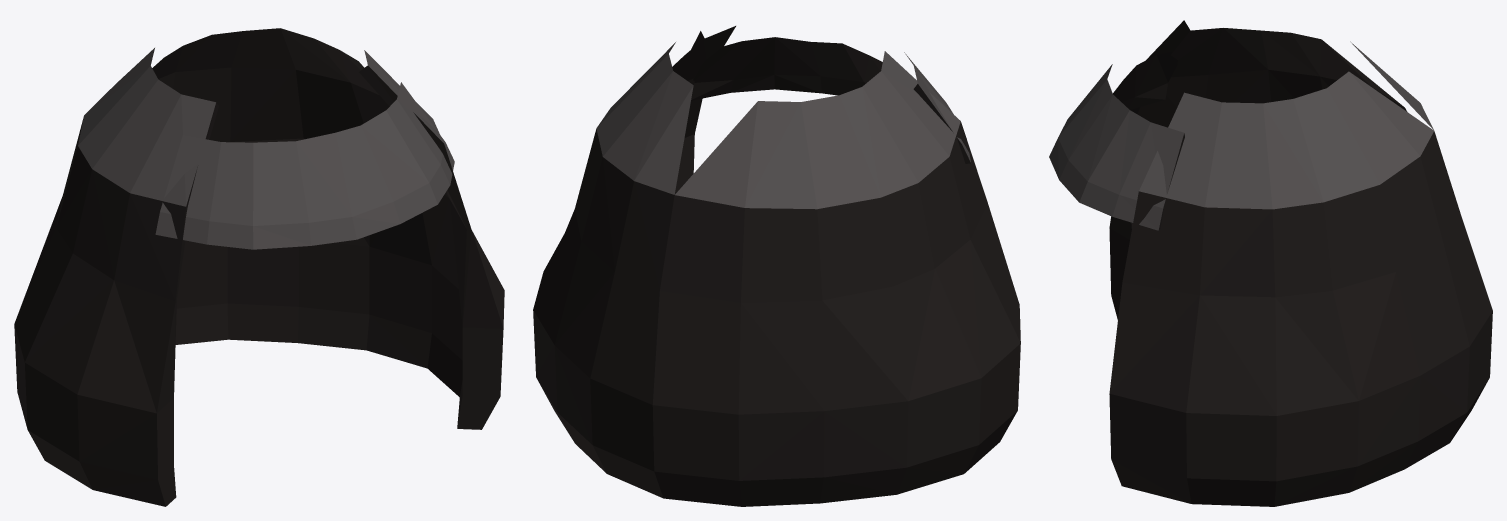
The model's file is hair_bob_bangs_01_hatcut.glb.
3 views of the same model, side by side, from view 1: azimuth 30°, elevation 25°; view 2: azimuth 150°, elevation 25°; view 3: azimuth 270°, elevation 25° (orthographic).
Parts seen in each view (by area): view 1: hair_bob_bangs_01_hatcut; view 2: hair_bob_bangs_01_hatcut; view 3: hair_bob_bangs_01_hatcut.
Part boxes in pixels (x1=…): hair_bob_bangs_01_hatcut: x1=14, y1=28, x2=504, y2=506; hair_bob_bangs_01_hatcut: x1=533, y1=26, x2=1020, y2=506; hair_bob_bangs_01_hatcut: x1=1049, y1=20, x2=1492, y2=506.
Bounding box in the file's own units: 0.3678 × 0.2888 × 0.3276.
Materials: 1 (1 with a texture image).
